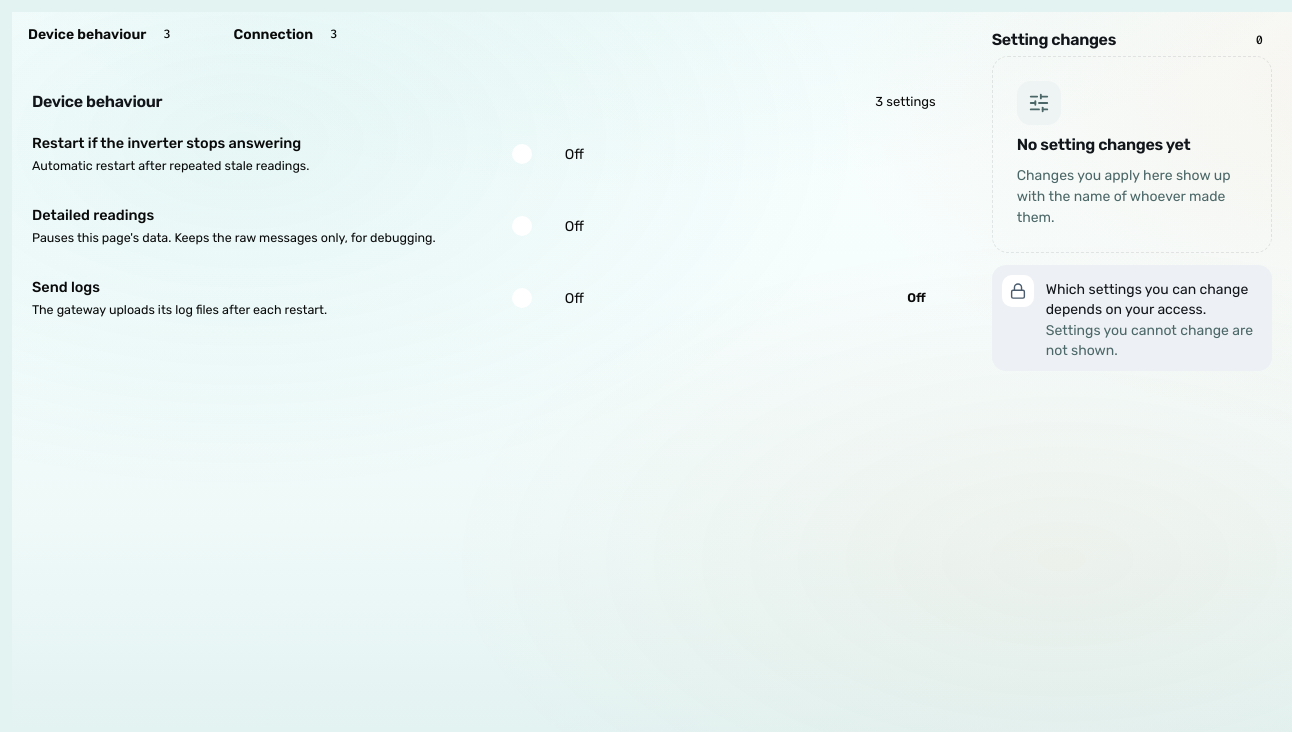
A4 offline shows the notice and sends nothing
This screenshot has width=1292, height=732.
Click the switch named "Restart if the inverter stops answering": (532, 154) x1=508 y1=132 x2=768 y2=176
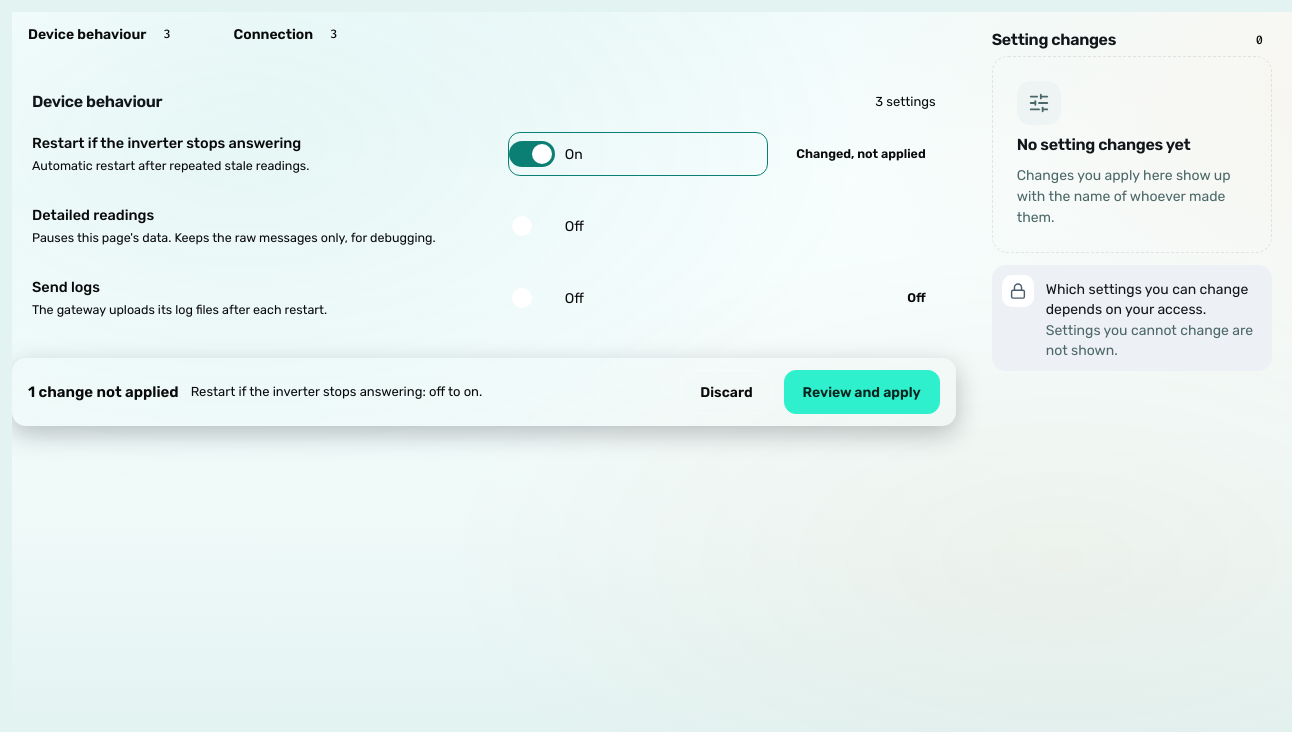
Click the button "Review and apply": (862, 392) x1=784 y1=370 x2=940 y2=414
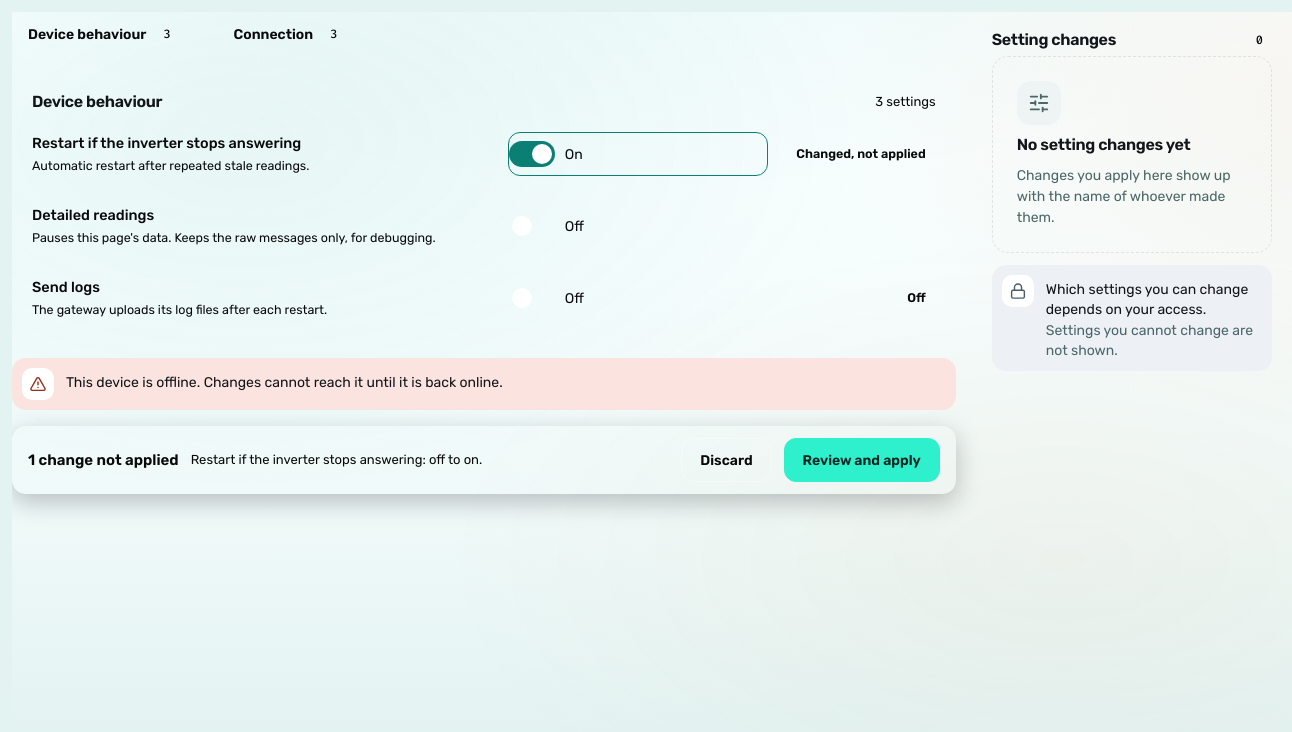
Expected: the text "1 change not applied" is shown, x1=28 y1=449 x2=179 y2=471
Expected: the text "device is offline" is shown, x1=66 y1=374 x2=503 y2=391
